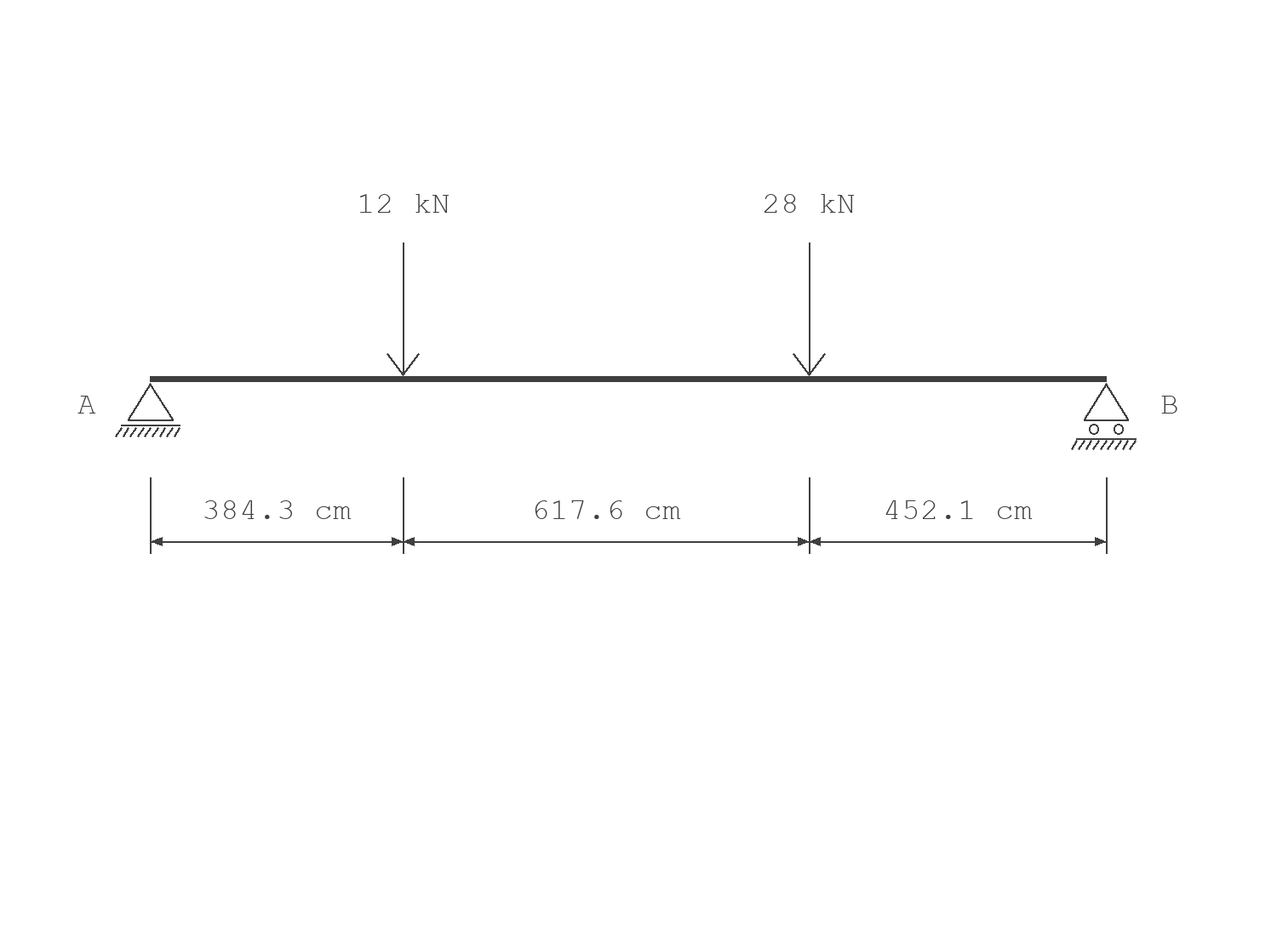pin_support: (115, 383, 180, 437)
point_load: (387, 243, 420, 376), (793, 243, 826, 376)
roller_support: (1071, 383, 1137, 450)
